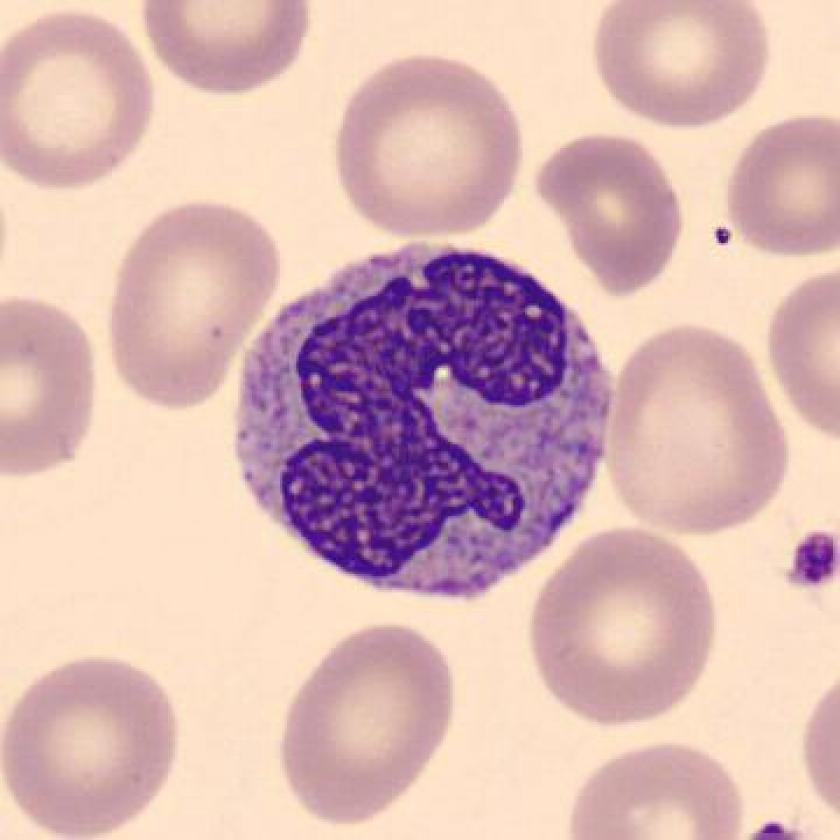monocyte: (207, 223, 634, 626)
